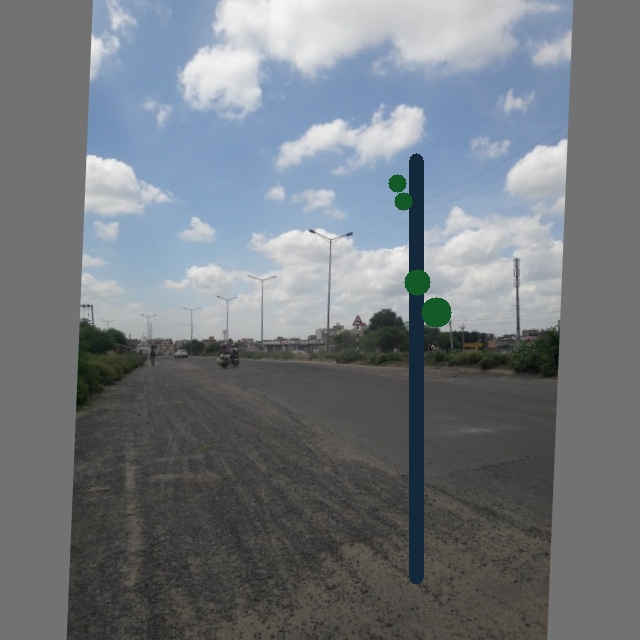Left_Hand_Curve: (349, 311, 368, 329)
